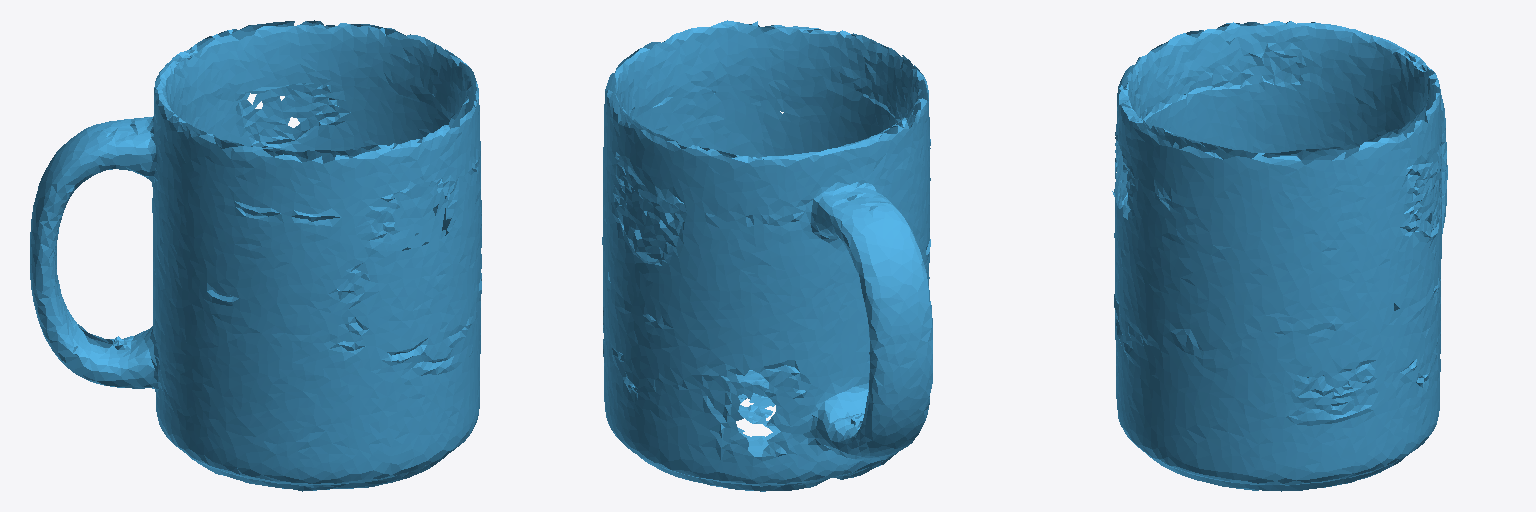
URDF robot description (graspable):
<?xml version="1.0" ?>
<!-- =================================================================================== -->
<!-- |    This document was autogenerated by xacro from [local-path]/ws_velma/underlay/src/barrett_hand_robot/barrett_hand_defs/robots/barrett_hand.urdf.xml | -->
<!-- |    EDITING THIS FILE BY HAND IS NOT RECOMMENDED                                 | -->
<!-- =================================================================================== -->
<robot name="graspable" xmlns:controller="http://playerstage.sourceforge.net/gazebo/xmlschema/#controller" xmlns:geom="http://playerstage.sourceforge.net/gazebo/xmlschema/#geom" xmlns:interface="http://playerstage.sourceforge.net/gazebo/xmlschema/#interface" xmlns:sensor="http://playerstage.sourceforge.net/gazebo/xmlschema/#sensor" xmlns:xacro="http://www.ros.org/wiki/xacro">
  <material name="DarkGrey">
    <color rgba="0.3 0.3 0.3 1.0"/>
  </material>
  <material name="Red">
    <color rgba="0.3 0.3 0.3 1.0"/>
  </material>
  <material name="Black">
    <color rgba="0 0 0 1.0"/>
  </material>
  <material name="Orange">
    <color rgba="1.0 0.487 0 1.0"/>
  </material>
  <material name="Silver">
    <color rgba="1.0 1.0 1.0 1.0"/>
  </material>
  <material name="Grey">
    <color rgba="0.7 0.7 0.7 1.0"/>
  </material>
  <material name="Blue">
    <color rgba="0.0 0.0 0.8 1.0"/>
  </material>
  <material name="HandGray">
    <color rgba="0.953 0.996 0.694 1.0"/>
  </material>
  <material name="SickBlue">
    <color rgba="0.3058 0.5921 0.7294 1.0"/>
  </material>
  <link name="world"/>
  <joint name="arm_world_joint" type="floating">
    <origin rpy="0 0 0" xyz="0 0 0"/>
    <parent link="world"/>
    <child link="graspable"/>
  </joint>
  <link name="graspable">
    <inertial>
      <origin xyz="0.0 0.0 0.0"/>
      <mass value="0.63352875"/>
      <inertia ixx="0.00102103" ixy="0.00000775" ixz="-0.00001230" iyy="0.00080944" iyz="-0.00014417" izz="0.00068788"/>
    </inertial>
    <visual>
      <origin rpy="0 0 0" xyz="0 0 0"/>
      <geometry>
        <mesh filename="package://barrett_hand_sim_dart/meshes/cyl_w_closed_handle.stl"/>
      </geometry>
    </visual>
    <!-- collision mesh used for whole arm motion planning -->
    <!-- collision mesh used for grasp planning -->
    <collision>
      <origin rpy="0 0 0" xyz="0 0 0"/>
      <geometry>
        <mesh filename="package://barrett_hand_sim_dart/meshes/cyl_w_closed_handle.stl"/>
      </geometry>
    </collision>
  </link>
</robot>

--- What the picture shows (computed from the rendered views, not written in the file) ---
The picture shows the robot from 3 angles, left to right: view 1: azimuth 30°, elevation 25°; view 2: azimuth 150°, elevation 25°; view 3: azimuth 270°, elevation 25°; orthographic projection.
Robot: graspable — 2 links, 1 joints (1 floating); root link world; default pose: all joints at 0.
Visible links, largest first — view 1: graspable; view 2: graspable; view 3: graspable.
Link boxes in pixels (x1,y1,x2,y2): graspable: (30, 20, 481, 491); graspable: (602, 20, 932, 491); graspable: (1112, 21, 1447, 491).
Size in the robot's own frame: 0.1109 by 0.0881 by 0.1007 metres.
Meshes: 1 distinct files referenced, 1 mesh visuals loaded (1 binary STL).
